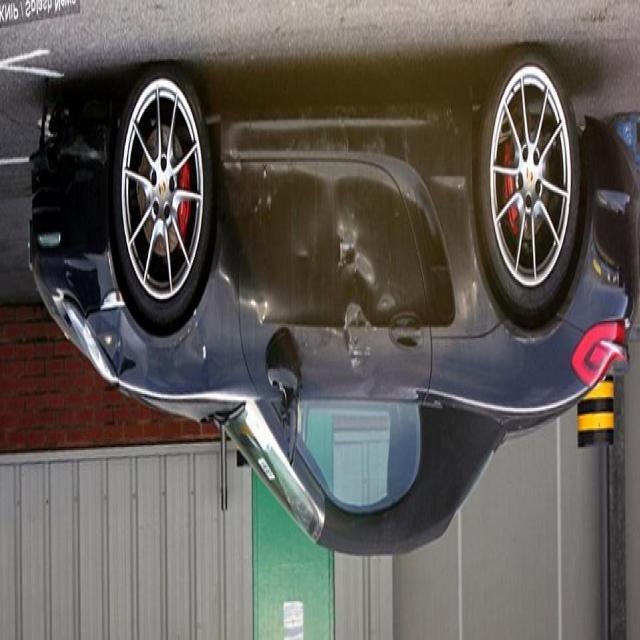dent: (312, 183, 389, 390)
